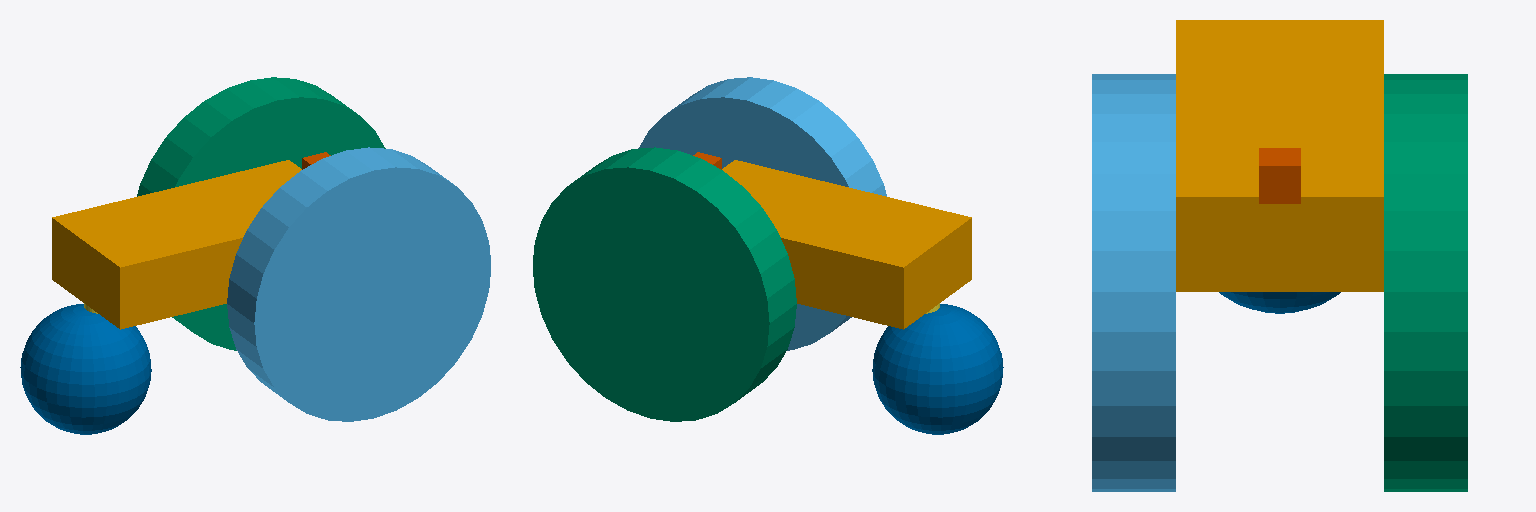
robot.urdf — drivebot:
<?xml version="1.0"?>
<robot name="drivebot">

  <link name="chassis">
    <visual>
      <geometry>
        <box size="1 0.5 0.25"/>
      </geometry>
      <origin rpy="0 0 0" xyz="0 0 0"/>
    </visual>
    <collision>
      <geometry>
        <box size="1 0.5 0.25"/>
      </geometry>
      <origin rpy="0 0 0" xyz="0 0 0"/>
    </collision>
    <inertial>
      <mass value="2"/>
      <inertia ixx="0.0104" ixy="0.0" ixz="0.0" iyy="0.04166" iyz="0.0" izz="0.05208"/>
      <origin rpy="0 0 0" xyz="0 0 0"/>
    </inertial>
  </link>  

  <link name="right_wheel">
    <visual>
      <geometry>
        <cylinder length="0.2" radius="0.5"/>
      </geometry>
      <origin rpy="1.57075 0 0" xyz="0 -0.1 0"/>
    </visual>
    <collision>
      <geometry>
        <cylinder length="0.2" radius="0.5"/>
      </geometry>
      <origin rpy="1.57075 0 0" xyz="0 -0.1 0"/>
    </collision>
    <inertial>
      <mass value="0.25"/>
      <inertia ixx="0.047375" ixy="0.0" ixz="0.0" iyy="0.011844" iyz="0.0" izz="0.0078125"/>
      <origin rpy="1.57075 0 0" xyz="0 -0.1 0"/>
    </inertial>
  </link>

  <link name="left_wheel">
    <visual>
      <geometry>
        <cylinder length="0.2" radius="0.5"/>
      </geometry>
      <origin rpy="1.57075 0 0" xyz="0 0.1 0"/>
    </visual>
    <collision>
      <geometry>
        <cylinder length="0.2" radius="0.5"/>
      </geometry>
      <origin rpy="1.57075 0 0" xyz="0 0.1 0"/>
    </collision>
    <inertial>
      <mass value="0.25"/>
      <inertia ixx="0.047375" ixy="0.0" ixz="0.0" iyy="0.011844" iyz="0.0" izz="0.0078125"/>
      <origin rpy="1.57075 0 0" xyz="0 0.1 0"/>
    </inertial>
  </link>

  <link name="rear_wheel_support">
    <visual>
      <geometry>
        <cylinder length="0.26" radius="0.05"/>
      </geometry>
      <origin rpy="0 0 0" xyz="0 0 -0.13"/>      
    </visual>
    <collision>
      <geometry>
        <cylinder length="0.26" radius="0.05"/>
      </geometry>
      <origin rpy="0 0 0" xyz="0 0 -0.13"/>      
    </collision>
    <inertial>
      <mass value="0.01"/>
      <inertia ixx="0.00003958" ixy="0.0" ixz="0.0" iyy="0.00003958" iyz="0.0" izz="0.0000125"/>
      <origin rpy="0 0 0" xyz="0 0 -0.13"/>       
    </inertial>
  </link>

  <link name="rear_wheel">
    <visual>
      <geometry>
        <sphere radius="0.24"/>
      </geometry>
      <origin rpy="0 0 0" xyz="0 0 0"/>
    </visual>
    <collision>
      <geometry>
        <sphere radius="0.20"/>
      </geometry>
      <origin rpy="0 0 0" xyz="0 0 0"/>      
    </collision>
    <inertial>
      <mass value="0.30"/>
      <inertia ixx="0.005" ixy="0.0" ixz="0.0" iyy="0.005" iyz="0.0" izz="0.005"/>
      <origin rpy="0 0 0" xyz="0 0 0"/>
    </inertial> 
  </link>

  <link name="camera_link">
    <visual>
      <geometry>
        <box size="0.1016 0.1016 0.1016"/>
      </geometry>
      <origin rpy="0 0 0" xyz="0 0 0.0508"/>
    </visual>
    <collision>
      <geometry>
        <box size="0.1016 0.1016 0.1016"/>
      </geometry>
      <origin rpy="0 0 0" xyz="0 0 0.0508"/>
    </collision>
    <inertial>
      <mass value="0.113398093"/>
      <inertia ixx="0.0001950931" ixy="0.0" ixz="0.0" iyy="0.0001950931" iyz="0.0" izz="0.0001950931"/>
      <origin rpy="0 0 0" xyz="0 0 0.0508"/>
    </inertial>
  </link>  


  <joint name="chassis_to_right_wheel" type="continuous">
    <parent link="chassis"/>
    <child link="left_wheel"/>
    <origin rpy="0 0 0" xyz="0.45 0.25 -0.125"/>
    <axis xyz="0 1 0"/>
    <limit effort="100" velocity="100"/>
    <dynamics damping="0.0001"/>
  </joint>

  <joint name="chassis_to_left_wheel" type="continuous">
    <parent link="chassis"/>
    <child link="right_wheel"/>
    <origin rpy="0 0 0" xyz="0.45 -0.25 -0.125"/>
    <axis xyz="0 1 0"/>
    <limit effort="100" velocity="100"/>
    <dynamics damping="0.0001"/>
  </joint>

  <joint name="chassis_to_rear_wheel_support" type="continuous">
    <parent link="chassis"/>
    <child link="rear_wheel_support"/>
    <origin rpy="0 0 0" xyz="-0.45 0 -0.125"/>
    <axis xyz="0 0 1"/>
    <limit effort="100" velocity="100"/>
    <dynamics damping="0.0001"/>
  </joint>

  <joint name="rear_wheel_support_to_rear_wheel" type="continuous">
    <parent link="rear_wheel_support"/>
    <child link="rear_wheel"/>
    <origin rpy="0 0 0" xyz="-0.05 0 -0.26"/>
    <axis xyz="0 1 0"/>
    <limit effort="100" velocity="100"/>
    <dynamics damping="0.01"/>
  </joint>

  <joint name="chassis_to_camera_link" type="fixed">
    <parent link="chassis"/>
    <child link="camera_link"/>
    <origin rpy="0 0 0" xyz="0.49 0 0.125"/>
  </joint>

  <gazebo reference="chassis">
    <material>Gazebo/Black</material>
  </gazebo>

  <gazebo reference="right_wheel">
    <mu1>1.0</mu1>
    <mu2>1.0</mu2>
    <kp>10000000.0</kp>
    <kd>1.0</kd>
    <material>Gazebo/Orange</material>
  </gazebo>

  <gazebo reference="left_wheel">
    <mu1>1.0</mu1>
    <mu2>1.0</mu2>
    <kp>10000000.0</kp>
    <kd>1.0</kd>
    <material>Gazebo/Orange</material>
  </gazebo>

  <gazebo reference="rear_wheel_support">
    <material>Gazebo/White</material>
  </gazebo>

  <gazebo reference="rear_wheel">
    <mu1>1.0</mu1>
    <mu2>1.0</mu2>
    <kp>10000000.0</kp>
    <kd>1.0</kd>
    <material>Gazebo/Orange</material>
  </gazebo>

  <gazebo reference="camera_link">
    <material>Gazebo/Red</material>
    <sensor type="camera" name="camera1">
      <update_rate>30.0</update_rate>
      <camera name="head">
        <horizontal_fov>1.3962634</horizontal_fov>
        <image>
          <width>800</width>
          <height>800</height>
          <format>R8G8B8</format>
        </image>
        <clip>
          <near>0.02</near>
          <far>300</far>
        </clip>
        <noise>
          <type>gaussian</type>
          <!-- Noise is sampled independently per pixel on each frame.
               That pixel's noise value is added to each of its color
               channels, which at that point lie in the range [0,1]. -->
          <mean>0.0</mean>
          <stddev>0.007</stddev>
        </noise>
      </camera>
      <plugin name="camera_controller" filename="libgazebo_ros_camera.so">
        <alwaysOn>true</alwaysOn>
        <updateRate>0.0</updateRate>
        <cameraName>drivebot/camera1</cameraName>
        <imageTopicName>image_raw</imageTopicName>
        <cameraInfoTopicName>camera_info</cameraInfoTopicName>
        <frameName>camera_link</frameName>
        <hackBaseline>0.07</hackBaseline>
        <distortionK1>0.0</distortionK1>
        <distortionK2>0.0</distortionK2>
        <distortionK3>0.0</distortionK3>
        <distortionT1>0.0</distortionT1>
        <distortionT2>0.0</distortionT2>
      </plugin>
    </sensor>
  </gazebo>

  <gazebo>
    <plugin name="front_wheel_differential_drive_controller" filename="libgazebo_ros_diff_drive.so">
      <legacyMode>true</legacyMode>
      <alwaysOn>true</alwaysOn>
      <updateRate>100</updateRate>
      <leftJoint>chassis_to_left_wheel</leftJoint>
      <rightJoint>chassis_to_right_wheel</rightJoint>
      <wheelSeparation>0.5</wheelSeparation>
      <wheelDiameter>0.25</wheelDiameter>
      <torque>30</torque>
      <commandTopic>cmd_vel</commandTopic>
      <odometryTopic>odom</odometryTopic>
      <odometryFrame>odom</odometryFrame>
      <robotBaseFrame>chassis</robotBaseFrame>
    </plugin>
  </gazebo>

</robot>

--- Render facts (derived) ---
The picture shows the robot from 3 angles, left to right: view 1: azimuth 30°, elevation 25°; view 2: azimuth 150°, elevation 25°; view 3: azimuth 270°, elevation 25°; orthographic projection.
Robot: drivebot — 6 links, 5 joints (4 continuous, 1 fixed); root link chassis; default pose: every joint at zero.
Links seen in each view (by area): view 1: right_wheel, chassis, left_wheel, rear_wheel; view 2: left_wheel, chassis, right_wheel, rear_wheel; view 3: chassis, right_wheel, left_wheel, camera_link, rear_wheel.
Boxes of the visible links, left/top/right/bottom form: right_wheel: left=227, top=147, right=490, bottom=421; chassis: left=52, top=160, right=301, bottom=329; left_wheel: left=137, top=77, right=385, bottom=350; rear_wheel: left=20, top=304, right=151, bottom=434; left_wheel: left=533, top=147, right=796, bottom=421; chassis: left=722, top=160, right=971, bottom=329; right_wheel: left=638, top=77, right=886, bottom=350; rear_wheel: left=872, top=304, right=1003, bottom=434; chassis: left=1176, top=20, right=1383, bottom=291; right_wheel: left=1092, top=74, right=1175, bottom=491; left_wheel: left=1384, top=74, right=1467, bottom=491; camera_link: left=1259, top=148, right=1300, bottom=203; rear_wheel: left=1219, top=292, right=1340, bottom=313.
Bounding box of the posed robot: 1.69 × 0.9 × 1 m (x, y, z).
Geometry: primitives only (box / cylinder / sphere), no mesh files.